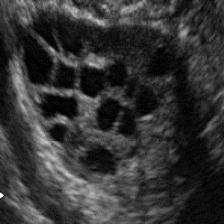pcos: (9, 0, 200, 224)
